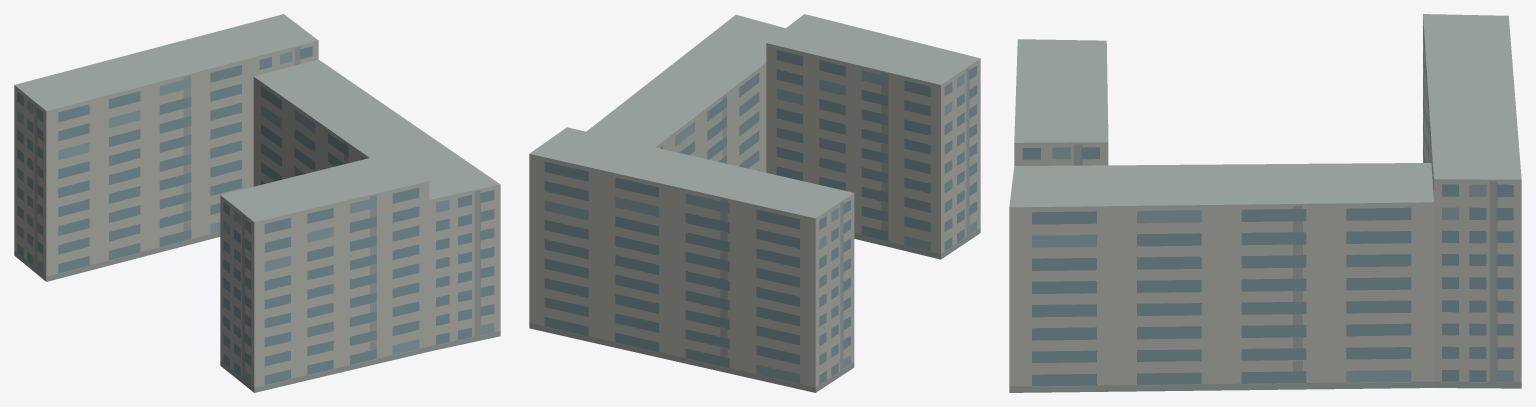
Rendered from residential-b58b13c8-73ec-4b4b-88e7-2e2a5e4e9265.glb.
3 renders of one model, left to right at view 1: azimuth 30°, elevation 25°; view 2: azimuth 150°, elevation 25°; view 3: azimuth 270°, elevation 25°, orthographic. The views are drawn at different scales.
Parts seen in each view (by area): view 1: residential-b58b13c8-73ec-4b4b-88e7-2e2a5e4e9265.tmp; view 2: residential-b58b13c8-73ec-4b4b-88e7-2e2a5e4e9265.tmp; view 3: residential-b58b13c8-73ec-4b4b-88e7-2e2a5e4e9265.tmp.
Boxes of the visible parts, x1,y1,x2,y2 form: residential-b58b13c8-73ec-4b4b-88e7-2e2a5e4e9265.tmp: (14,14,500,392); residential-b58b13c8-73ec-4b4b-88e7-2e2a5e4e9265.tmp: (529,14,980,392); residential-b58b13c8-73ec-4b4b-88e7-2e2a5e4e9265.tmp: (1009,14,1521,392).
Bounding box in the file's own units: 47.97 × 27.45 × 61.05.
